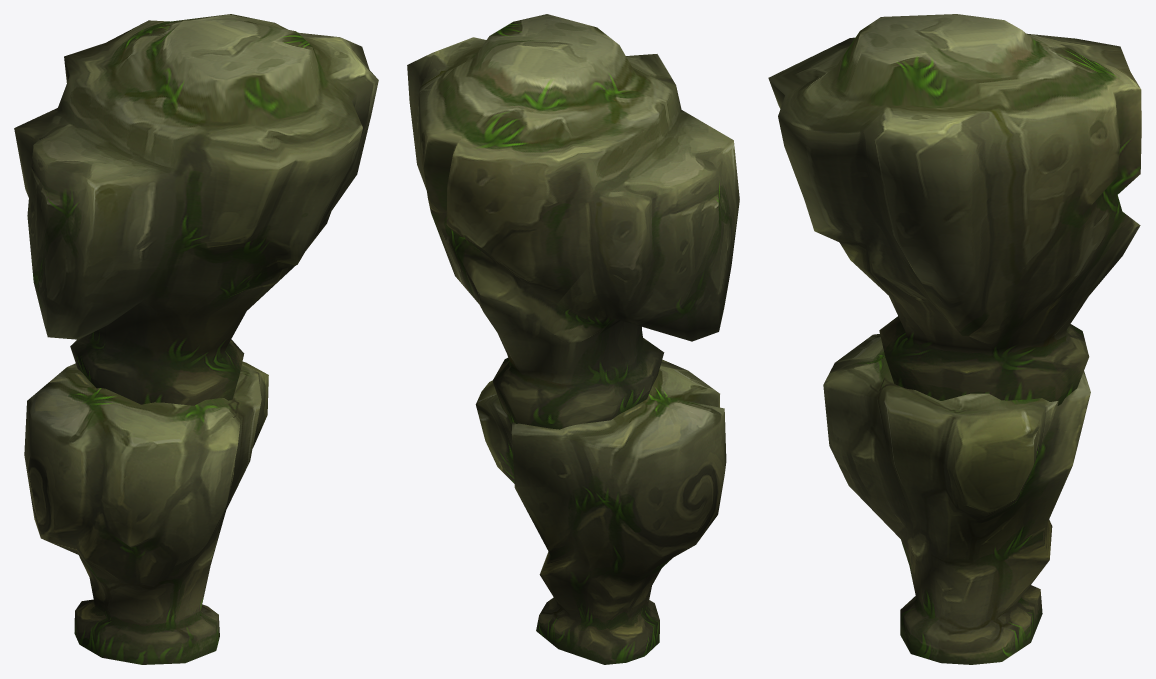
The model's file is Rock_Formation_02_09.fbx.
The picture shows the model from 3 angles, left to right: view 1: azimuth 30°, elevation 25°; view 2: azimuth 150°, elevation 25°; view 3: azimuth 270°, elevation 25°; orthographic projection. The views are drawn at different scales.
Visible parts, largest first — view 1: Rock_Formation_02_09; view 2: Rock_Formation_02_09; view 3: Rock_Formation_02_09.
Part boxes in pixels (x1,y1,x2,y2): Rock_Formation_02_09: (14,14,378,664); Rock_Formation_02_09: (407,14,739,664); Rock_Formation_02_09: (768,14,1141,664).
Size of the model in its own units: 180 by 316 by 168.
